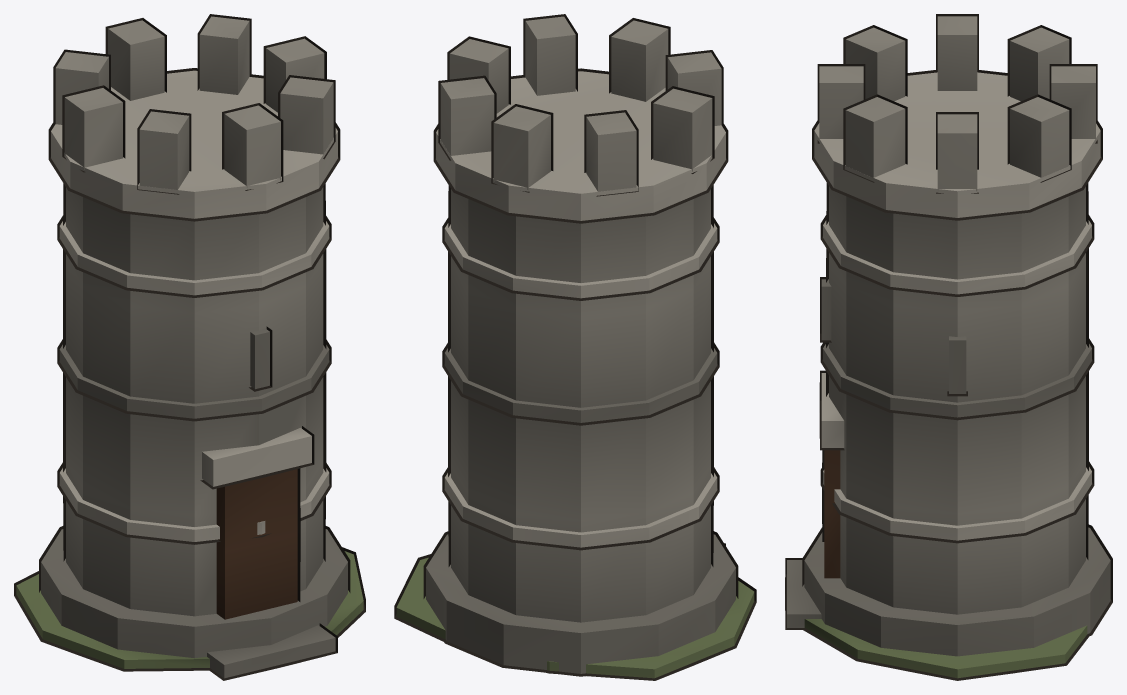
File: tour_grande.glb
3 views of the same model, side by side, from view 1: azimuth 30°, elevation 25°; view 2: azimuth 150°, elevation 25°; view 3: azimuth 270°, elevation 25° (orthographic).
Parts seen in each view (by area): view 1: tour_grande, tour_grande_outline; view 2: tour_grande, tour_grande_outline; view 3: tour_grande, tour_grande_outline.
Boxes of the visible parts, box(x1,y1,x2,y2) form: tour_grande: box(16, 16, 363, 678); tour_grande_outline: box(14, 14, 365, 680); tour_grande: box(396, 16, 754, 678); tour_grande_outline: box(394, 14, 756, 680); tour_grande: box(787, 16, 1110, 678); tour_grande_outline: box(785, 14, 1112, 680).
Bounding box in the file's own units: 1.7 × 2.74 × 1.54.
